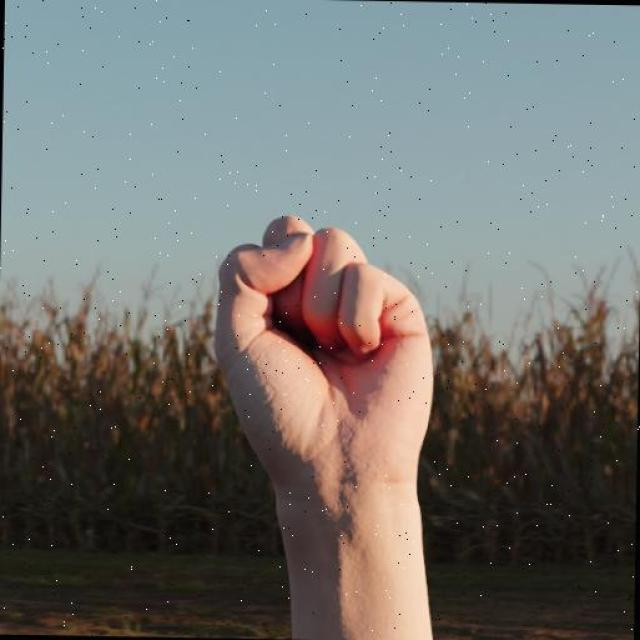S: (208, 211, 443, 495)
